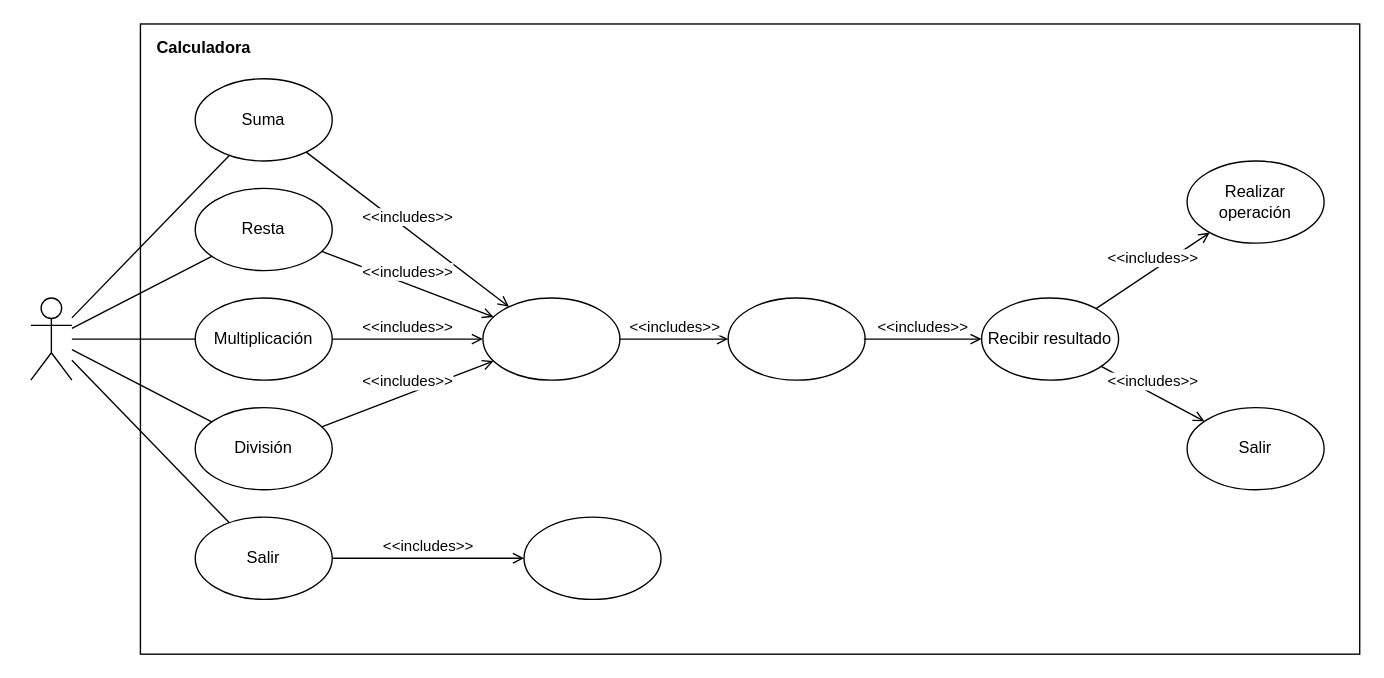
This 1384x678 diagram has some shape labels left out. Each missing label, with the centre of its shape:
"Ingresar primer número" belongs at (551,338).
"Ingresar segundo número" belongs at (796,338).
"Terminar programa" belongs at (592,557).
"Usuario" belongs at (50,338).
